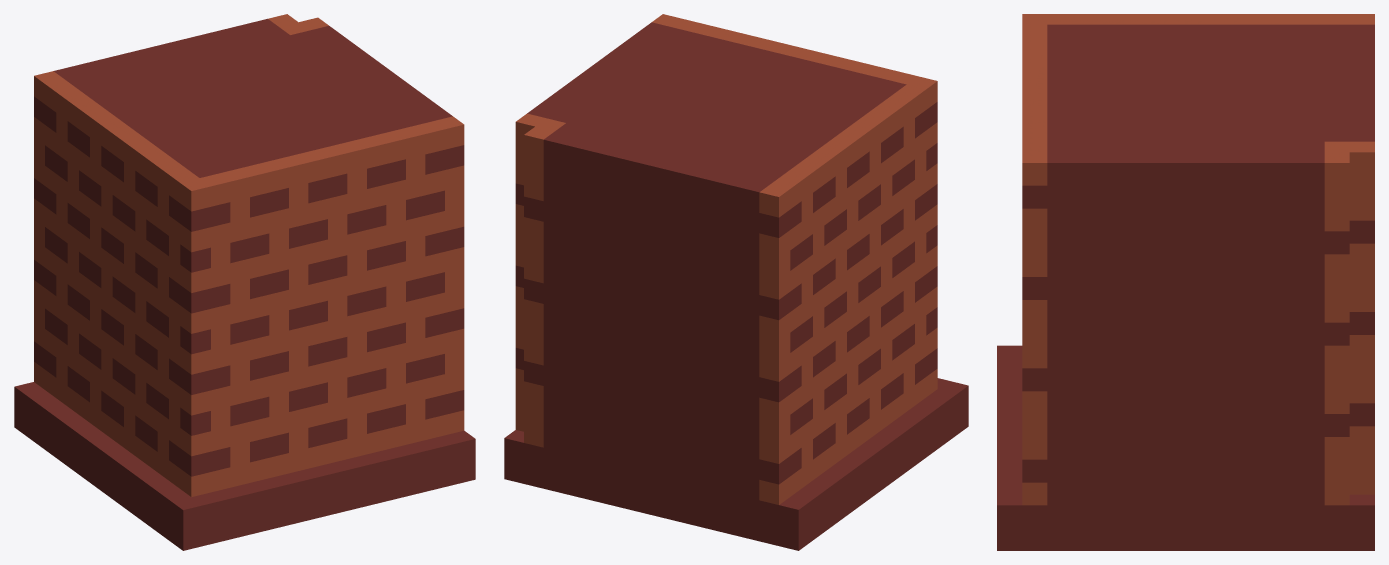
File: dungeon_b_b_inner_wall_corner_b.obj
3 renders of one model, left to right at view 1: azimuth 30°, elevation 25°; view 2: azimuth 150°, elevation 25°; view 3: azimuth 270°, elevation 25°, orthographic. The views are drawn at different scales.
Bounding box in the file's own units: 1.5 × 1.7 × 1.5.
1 material, 1 textured.
